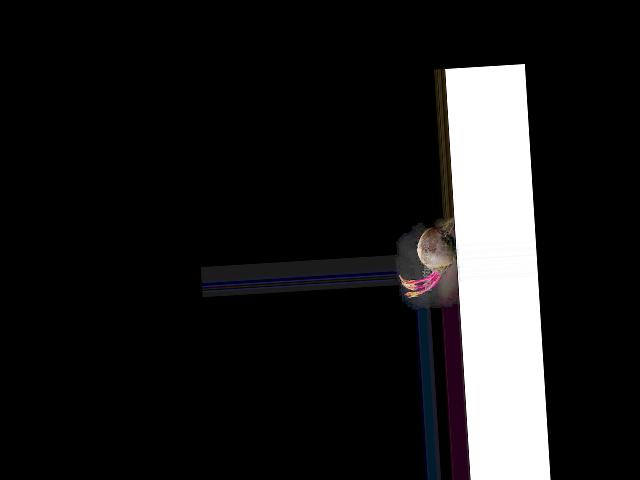beet: (396, 215, 459, 297)
